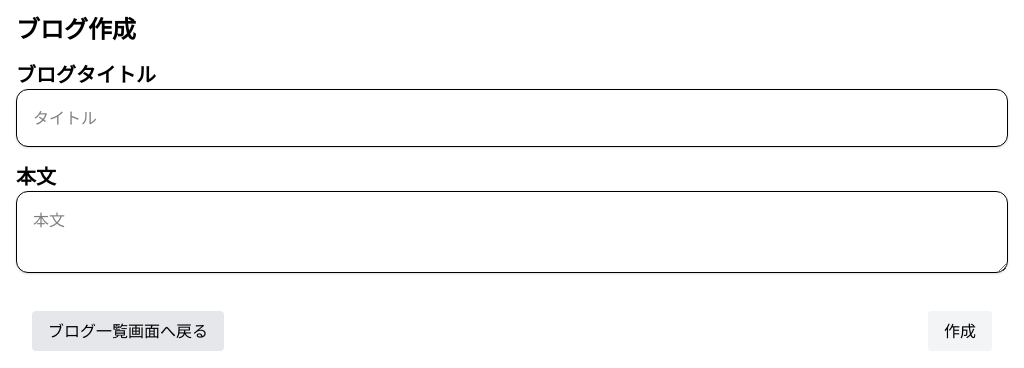
Test: BlogCreate.vue - 作成ボタンの状態制御 › フォームが有効なとき、作成ボタンは有効化されスタイルが変わる
Expected: the button with test id "blogcreate-submit-btn" is disabled, top-left (928, 311), bottom-right (992, 351)
Note: フィールドに値が入ったかを確認
Type "テストタイトル" into the field with test id "blogcreate-input-title" at (512, 118), box top-left (16, 89), bottom-right (1008, 147)
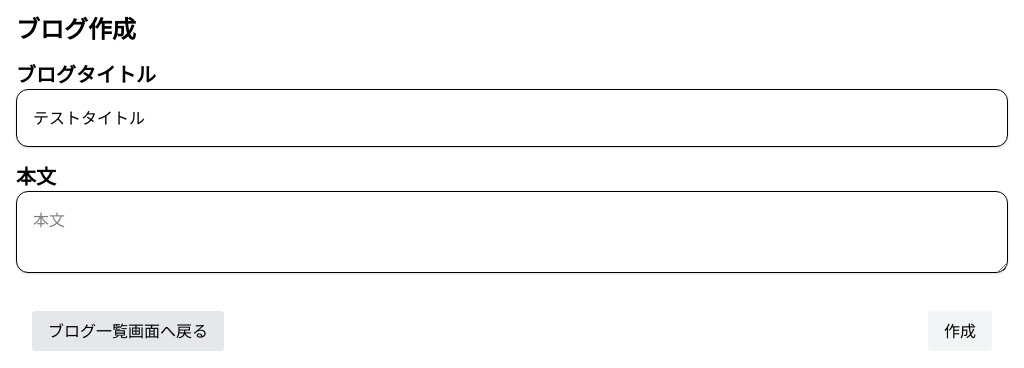
Type "テスト本文" into the text box with test id "blogcreate-textarea-contents-text" at (512, 232), box top-left (16, 191), bottom-right (1008, 273)
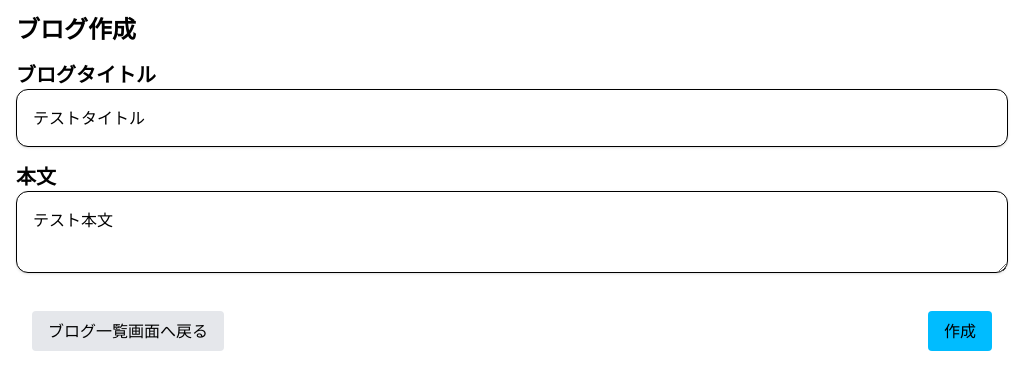
Now the button with test id "blogcreate-submit-btn" is enabled, box top-left (928, 311), bottom-right (992, 351)
